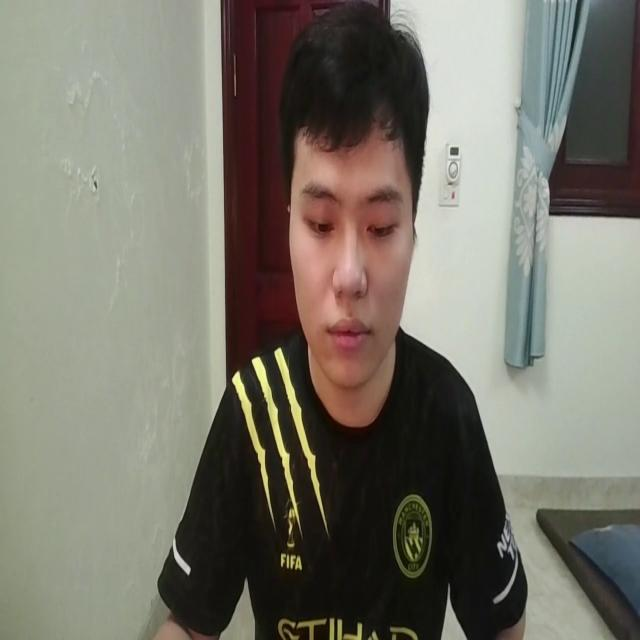student: (153, 0, 528, 640)
